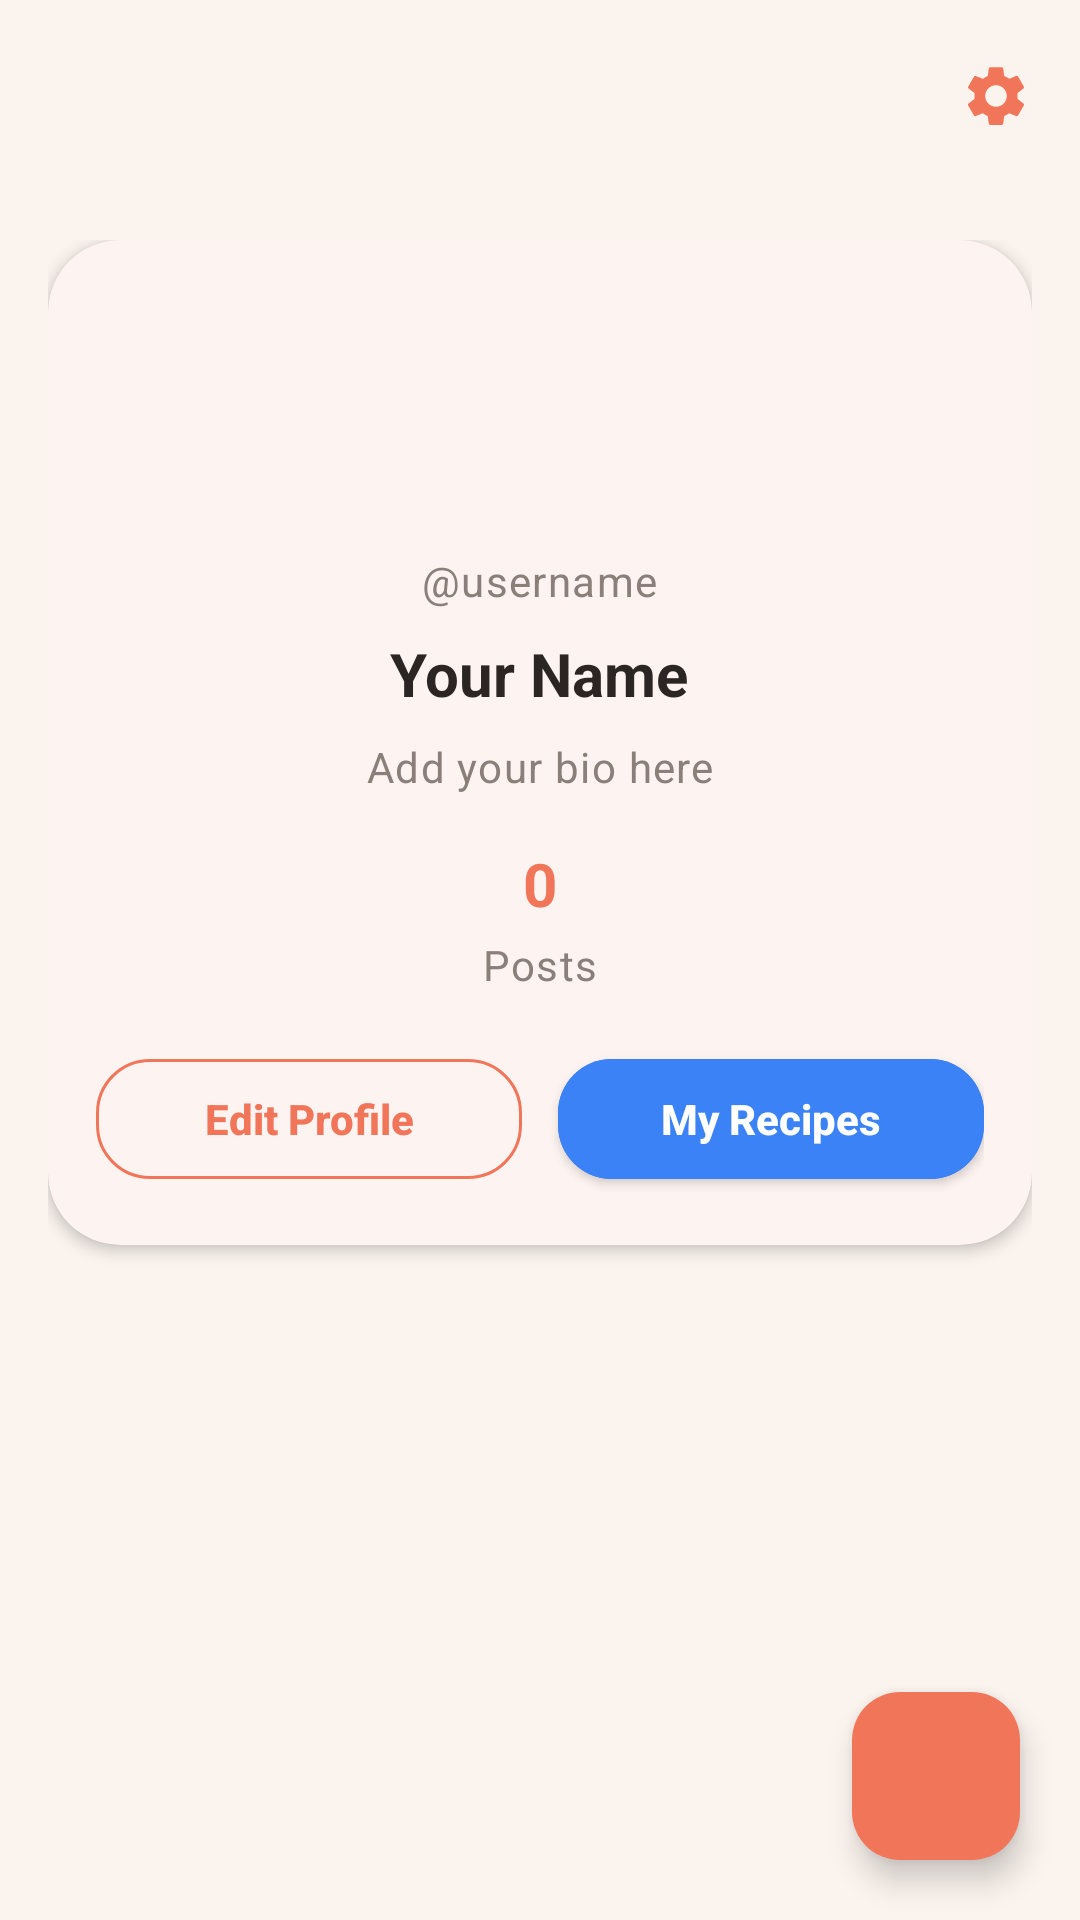

Locate icon controls on the screen. Image size 1080w x 1920h, boxes as (x1, y1, x2, y2).
Settings: (968, 67, 1024, 125)
